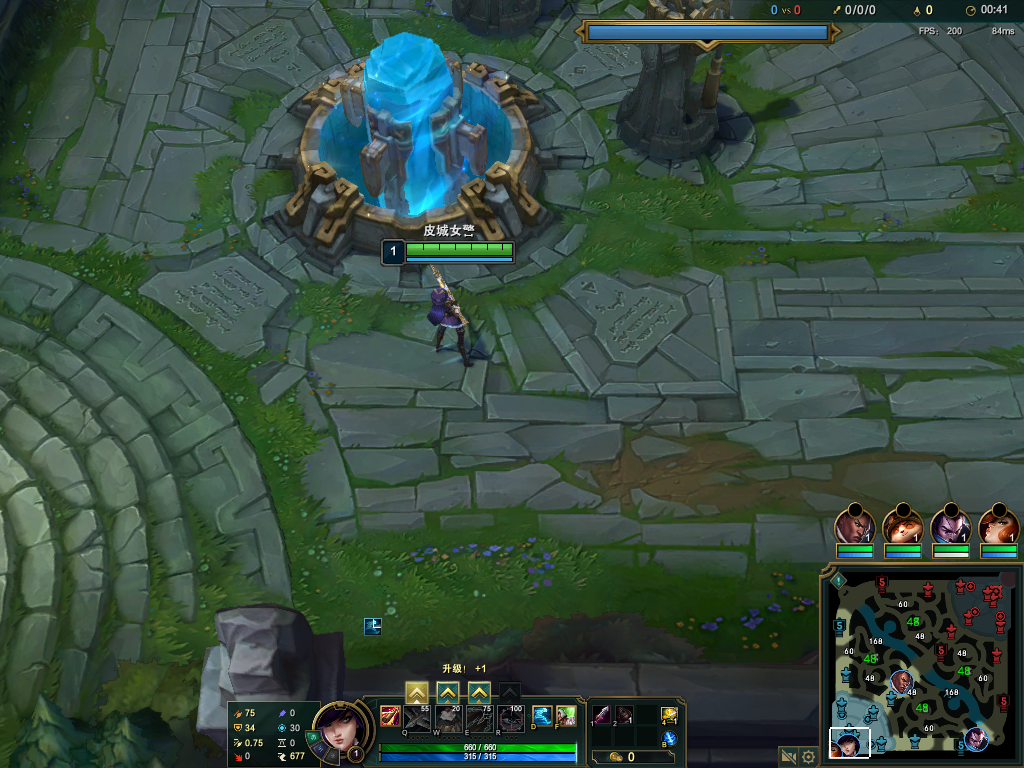Shenji: (466, 683, 493, 705), (435, 683, 458, 700)
Tuijianshengji: (406, 684, 425, 702)
WFSJ: (281, 43, 563, 221)
